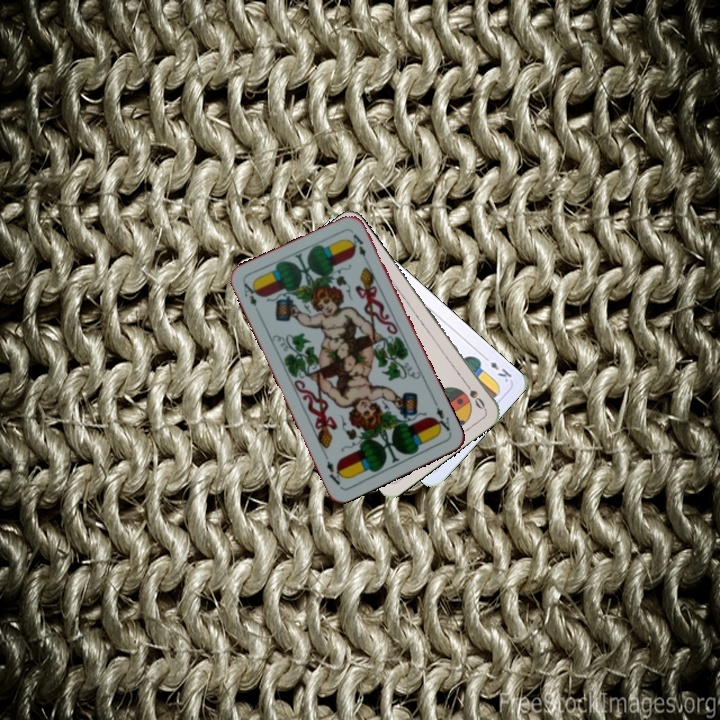EA: (429, 398, 454, 436), (239, 278, 261, 309)
EK: (479, 352, 515, 385)
SO: (459, 376, 488, 412)
